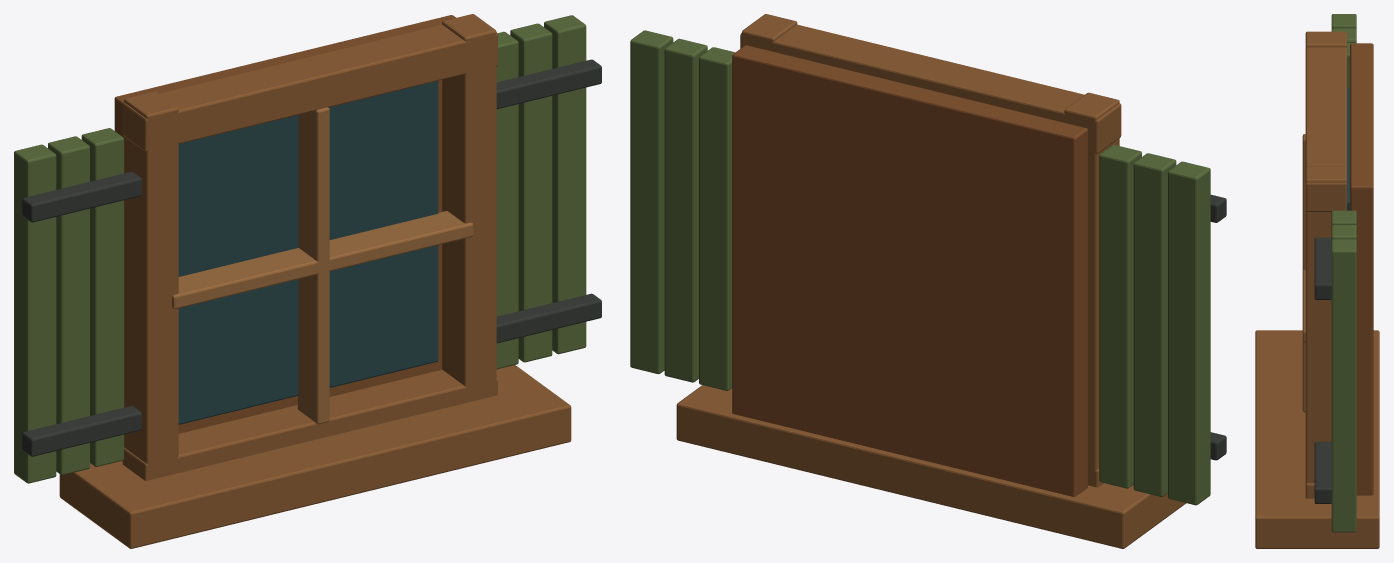
The model's file is shuttered_window.glb.
3 views of the same model, side by side, from view 1: azimuth 30°, elevation 25°; view 2: azimuth 150°, elevation 25°; view 3: azimuth 270°, elevation 25° (orthographic). The views are drawn at different scales.
Visible parts, largest first — view 1: shuttered_window; view 2: shuttered_window; view 3: shuttered_window.
Boxes of the visible parts, bbox=[...] form: shuttered_window: bbox=[14, 14, 601, 548]; shuttered_window: bbox=[630, 14, 1226, 548]; shuttered_window: bbox=[1255, 14, 1379, 548].
Size of the model in its own units: 1.94 by 1.31 by 0.42.
